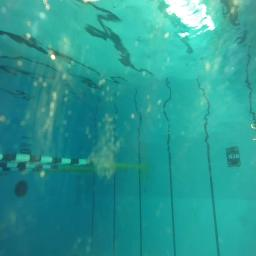front: (225, 147, 241, 167)
